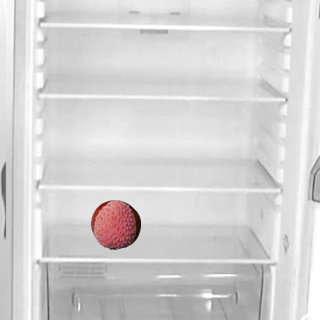Apple Braeburn: (90, 199, 140, 249)
Lychee: (89, 199, 139, 249)
